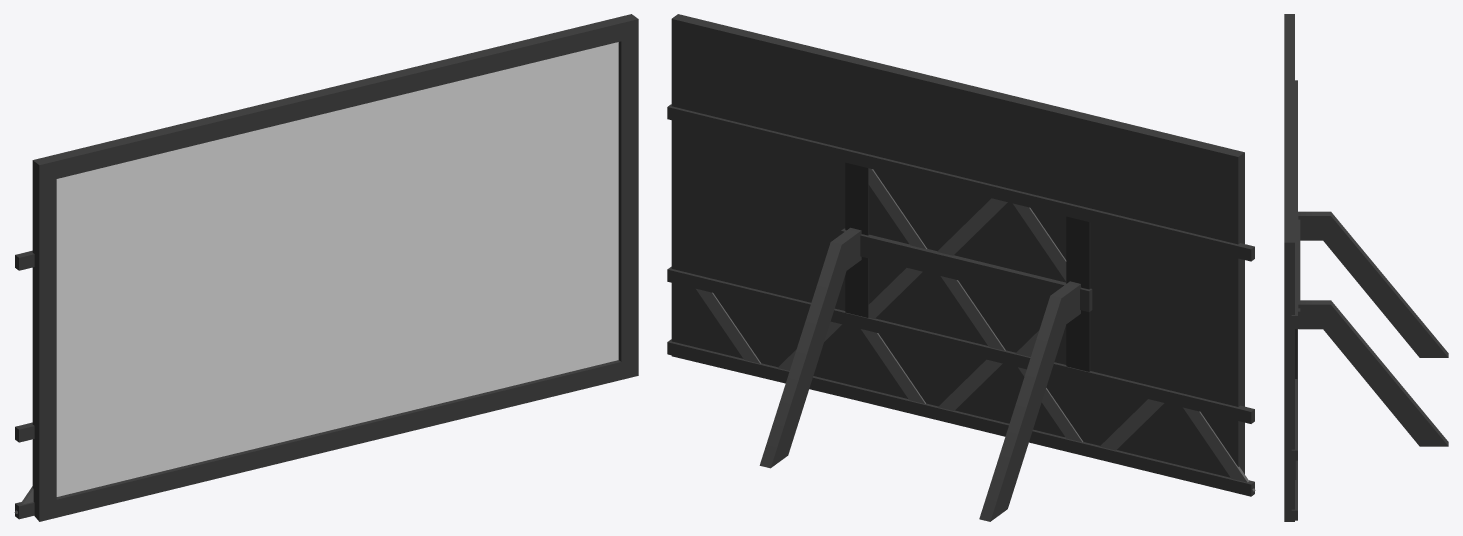
The model's file is sign_billboard.FBX.
3 views of the same model, side by side, from view 1: azimuth 30°, elevation 25°; view 2: azimuth 150°, elevation 25°; view 3: azimuth 270°, elevation 25° (orthographic). The views are drawn at different scales.
Visible parts, largest first — view 1: sign_billboard_image, sign_billboard; view 2: sign_billboard; view 3: sign_billboard.
Part boxes in pixels (bbox=[...]): sign_billboard_image: bbox=[56, 42, 618, 496]; sign_billboard: bbox=[14, 14, 638, 521]; sign_billboard: bbox=[667, 14, 1255, 521]; sign_billboard: bbox=[1284, 14, 1448, 521].
Size of the model in its own units: 808 by 445 by 238.
